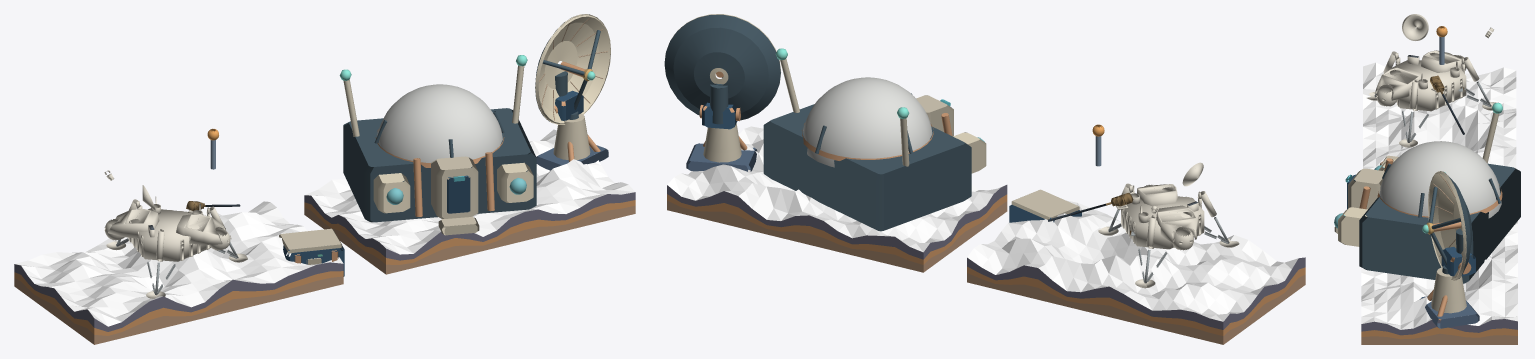
File: luna-puesto.obj
The picture shows the model from 3 angles, left to right: view 1: azimuth 30°, elevation 25°; view 2: azimuth 150°, elevation 25°; view 3: azimuth 270°, elevation 25°; orthographic projection. The views are drawn at different scales.
Visible parts, largest first — view 1: luna-puesto; view 2: luna-puesto; view 3: luna-puesto.
Part boxes in pixels (bbox=[...]): luna-puesto: bbox=[14, 14, 635, 344]; luna-puesto: bbox=[664, 14, 1305, 344]; luna-puesto: bbox=[1334, 14, 1520, 344].
Size of the model in its own units: 1.76 by 0.4954 by 0.521.
